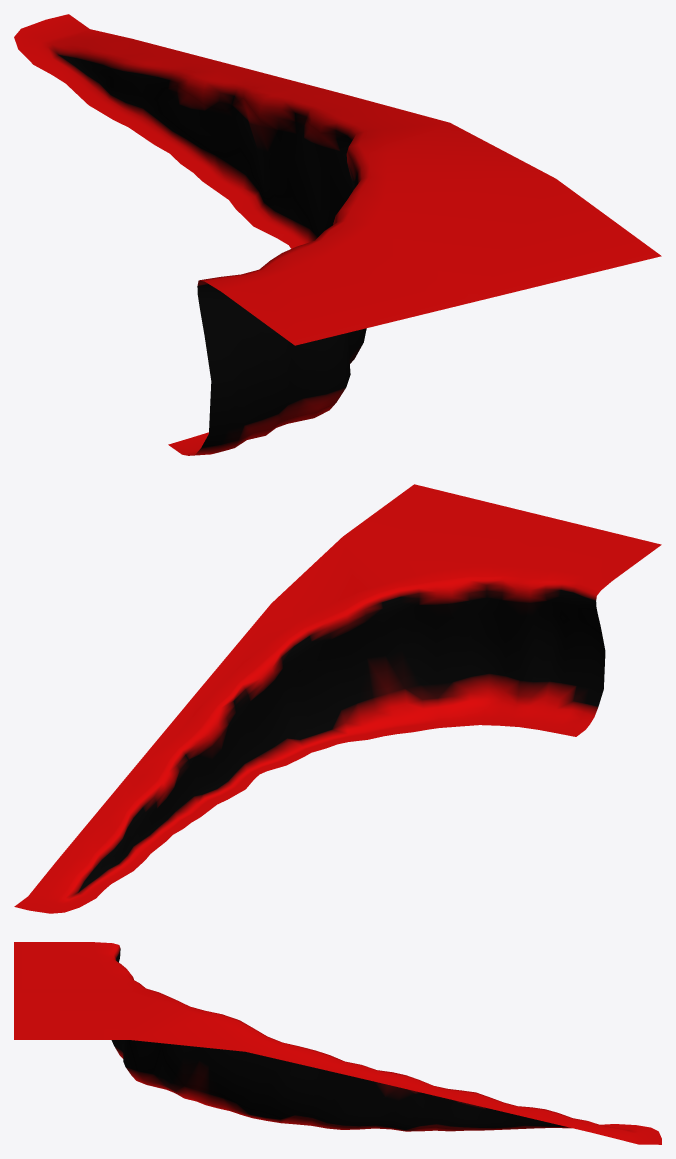
Rendered from ClimbCliff02A 1M Background.fbx.
The picture shows the model from 3 angles, top to bottom: view 1: azimuth 30°, elevation 25°; view 2: azimuth 150°, elevation 25°; view 3: azimuth 270°, elevation 25°; orthographic projection. The views are drawn at different scales.
Visible parts, largest first — view 1: ClimbCliff02A 1M Background; view 2: ClimbCliff02A 1M Background; view 3: ClimbCliff02A 1M Background.
Part boxes in pixels (<box>): ClimbCliff02A 1M Background: <box>14,14,661,455</box>; ClimbCliff02A 1M Background: <box>14,484,661,913</box>; ClimbCliff02A 1M Background: <box>14,942,661,1144</box>.
Bounding box in the file's own units: 2 × 1 × 5.6.
